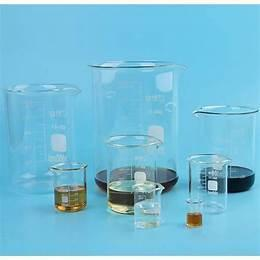Beaker: (184, 148, 229, 230), (44, 162, 90, 213), (129, 179, 170, 232)
